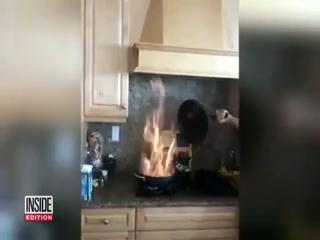Fire: (139, 93, 187, 177)
